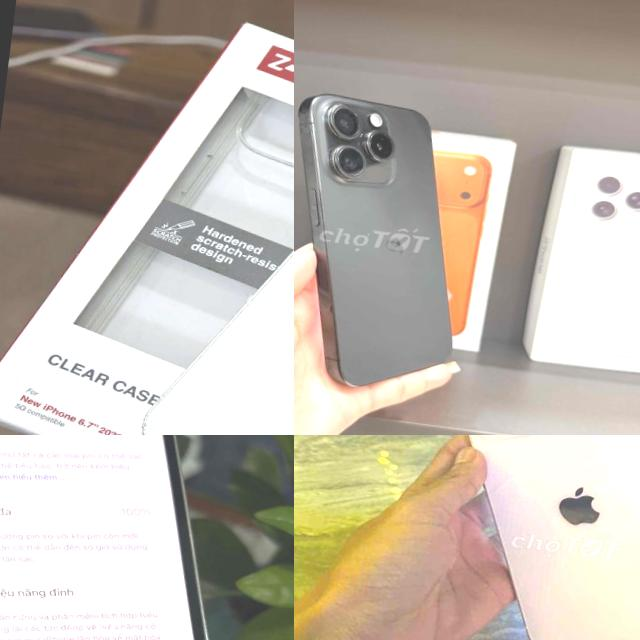gen_12_13: (0, 435, 289, 640), (429, 435, 640, 640)
gen_14: (136, 79, 294, 435)
gen_15: (294, 75, 516, 398)
